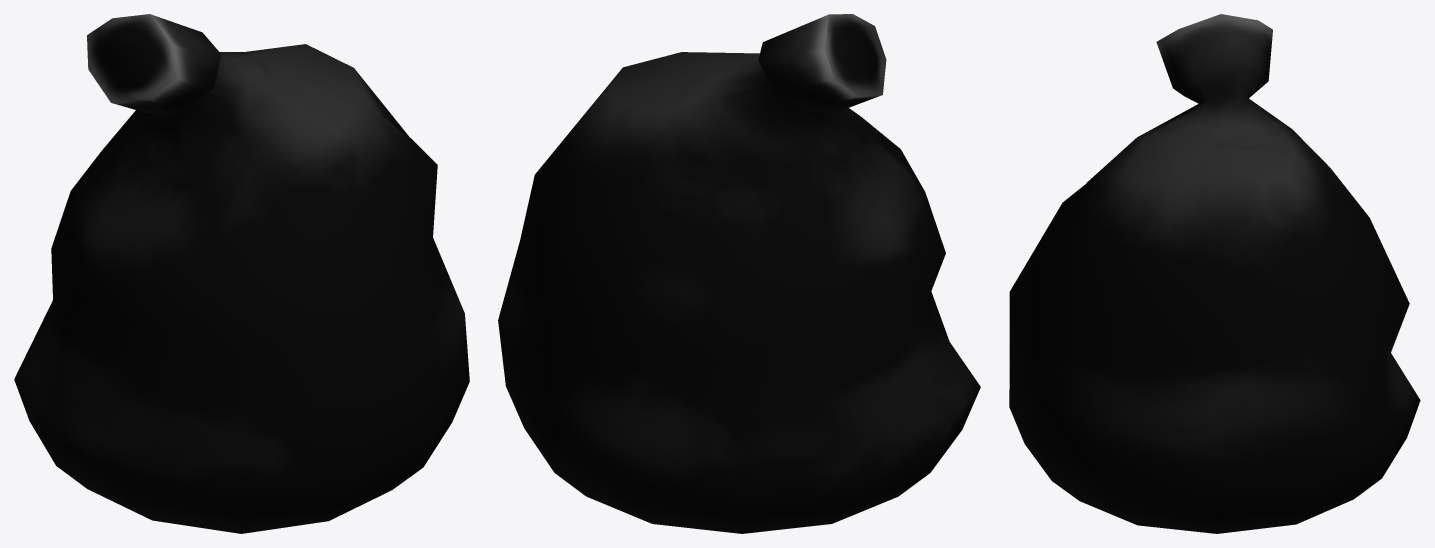
File: basura2.glb
3 views of the same model, side by side, from view 1: azimuth 30°, elevation 25°; view 2: azimuth 150°, elevation 25°; view 3: azimuth 270°, elevation 25° (orthographic). The views are drawn at different scales.
Parts seen in each view (by area): view 1: Cylinder; view 2: Cylinder; view 3: Cylinder.
Part boxes in pixels (box(x1,y1,x2,y2)): Cylinder: box(14, 14, 469, 533); Cylinder: box(498, 14, 980, 533); Cylinder: box(1009, 14, 1420, 533).
Size of the model in its own units: 2.19 by 2.43 by 2.17.
1 material, 1 textured.
